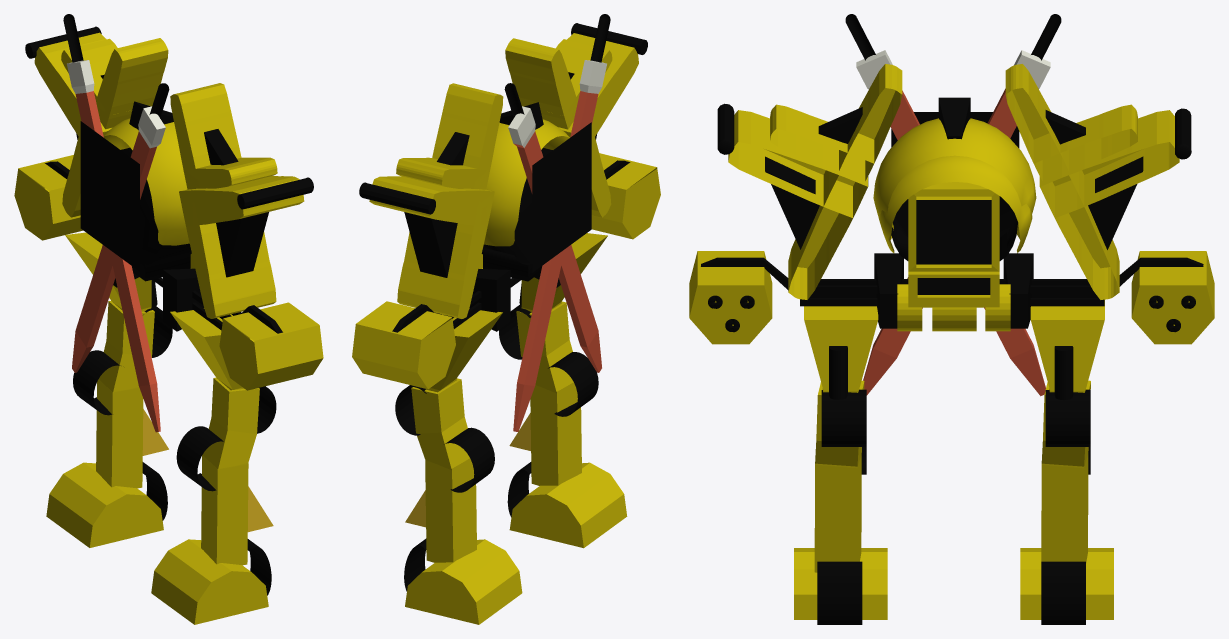
Rendered from robo.glb.
The picture shows the model from 3 angles, left to right: view 1: azimuth 30°, elevation 25°; view 2: azimuth 150°, elevation 25°; view 3: azimuth 270°, elevation 25°; orthographic projection. The views are drawn at different scales.
Visible parts, largest first — view 1: Cube.013, Cube.014, Cylinder.005, Cylinder.009, Plane, Cylinder.016, Cylinder.017, Cylinder.004, Cylinder.003, Cube.010, Cube.011, Sphere (+17 smaller); view 2: Cube.014, Cube.013, Cylinder.002, Cylinder.008, Plane, Cylinder.016, Cylinder.017, Cylinder.003, Cylinder.004, Cube.011, Cube.010, Sphere (+15 smaller); view 3: Cube, Cube.013, Cylinder.002, Cube.014, Cylinder.005, Sphere, Cylinder.009, Cylinder.008, Cylinder.003, Cylinder.004, Sphere.002, Cylinder.017 (+25 smaller).
Boxes of the visible parts, x1=… form: Cube.013: x1=170, y1=308, x2=259, y2=565; Cube.014: x1=65, y1=232, x2=154, y2=488; Cylinder.005: x1=179, y1=176, x2=304, y2=318; Cylinder.009: x1=219, y1=302, x2=323, y2=390; Plane: x1=80, y1=121, x2=139, y2=271; Cylinder.016: x1=151, y1=539, x2=268, y2=624; Cylinder.017: x1=46, y1=462, x2=163, y2=547; Cylinder.004: x1=170, y1=83, x2=277, y2=189; Cylinder.003: x1=61, y1=38, x2=168, y2=129; Cube.010: x1=63, y1=14, x2=160, y2=432; Cube.011: x1=72, y1=83, x2=169, y2=372; Sphere: x1=103, y1=118, x2=189, y2=245; Cube.014: x1=411, y1=308, x2=502, y2=562; Cube.013: x1=516, y1=233, x2=607, y2=485; Cylinder.002: x1=369, y1=176, x2=494, y2=318; Cylinder.008: x1=352, y1=301, x2=455, y2=389; Plane: x1=532, y1=122, x2=591, y2=272; Cylinder.016: x1=509, y1=462, x2=627, y2=548; Cylinder.017: x1=405, y1=539, x2=522, y2=624; Cylinder.003: x1=396, y1=83, x2=503, y2=189; Cylinder.004: x1=505, y1=38, x2=612, y2=129; Cube.011: x1=513, y1=14, x2=610, y2=431; Cube.010: x1=504, y1=83, x2=601, y2=372; Sphere: x1=484, y1=119, x2=569, y2=246; Cube: x1=908, y1=182, x2=999, y2=307; Cube.013: x1=804, y1=306, x2=878, y2=572; Cylinder.002: x1=1039, y1=110, x2=1179, y2=299; Cube.014: x1=1030, y1=300, x2=1104, y2=562; Cylinder.005: x1=728, y1=110, x2=868, y2=299; Sphere: x1=873, y1=118, x2=1036, y2=240; Cylinder.009: x1=689, y1=251, x2=772, y2=344; Cylinder.008: x1=1131, y1=251, x2=1214, y2=344; Cylinder.003: x1=1005, y1=64, x2=1137, y2=180; Cylinder.004: x1=770, y1=64, x2=902, y2=180; Sphere.002: x1=878, y1=155, x2=1032, y2=253; Cylinder.017: x1=1020, y1=548, x2=1113, y2=619.
Size of the model in its own units: 2.37 by 11 by 9.25.
